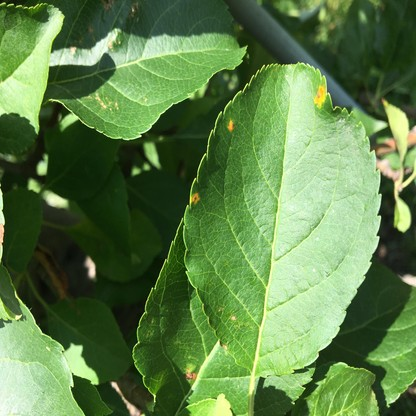rust: (313, 85, 326, 106), (184, 367, 196, 380), (191, 191, 199, 204), (0, 222, 4, 242), (227, 119, 233, 130)
